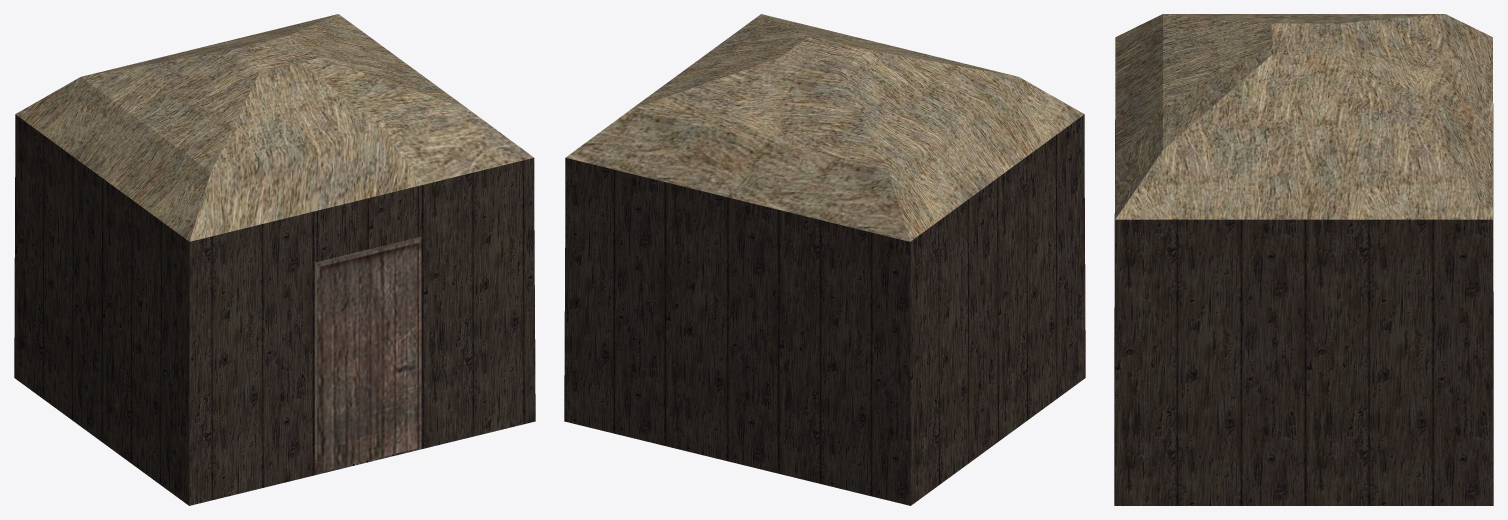
The model's file is Granary.fbx.
The picture shows the model from 3 angles, left to right: view 1: azimuth 30°, elevation 25°; view 2: azimuth 150°, elevation 25°; view 3: azimuth 270°, elevation 25°; orthographic projection. The views are drawn at different scales.
Visible parts, largest first — view 1: Cube; view 2: Cube; view 3: Cube.
Part boxes in pixels (x1=…): Cube: x1=14, y1=14, x2=535, y2=505; Cube: x1=564, y1=14, x2=1085, y2=505; Cube: x1=1114, y1=14, x2=1493, y2=505.
Bounding box in the file's own units: 3.46 × 3.31 × 3.03.
1 material, 1 textured.
